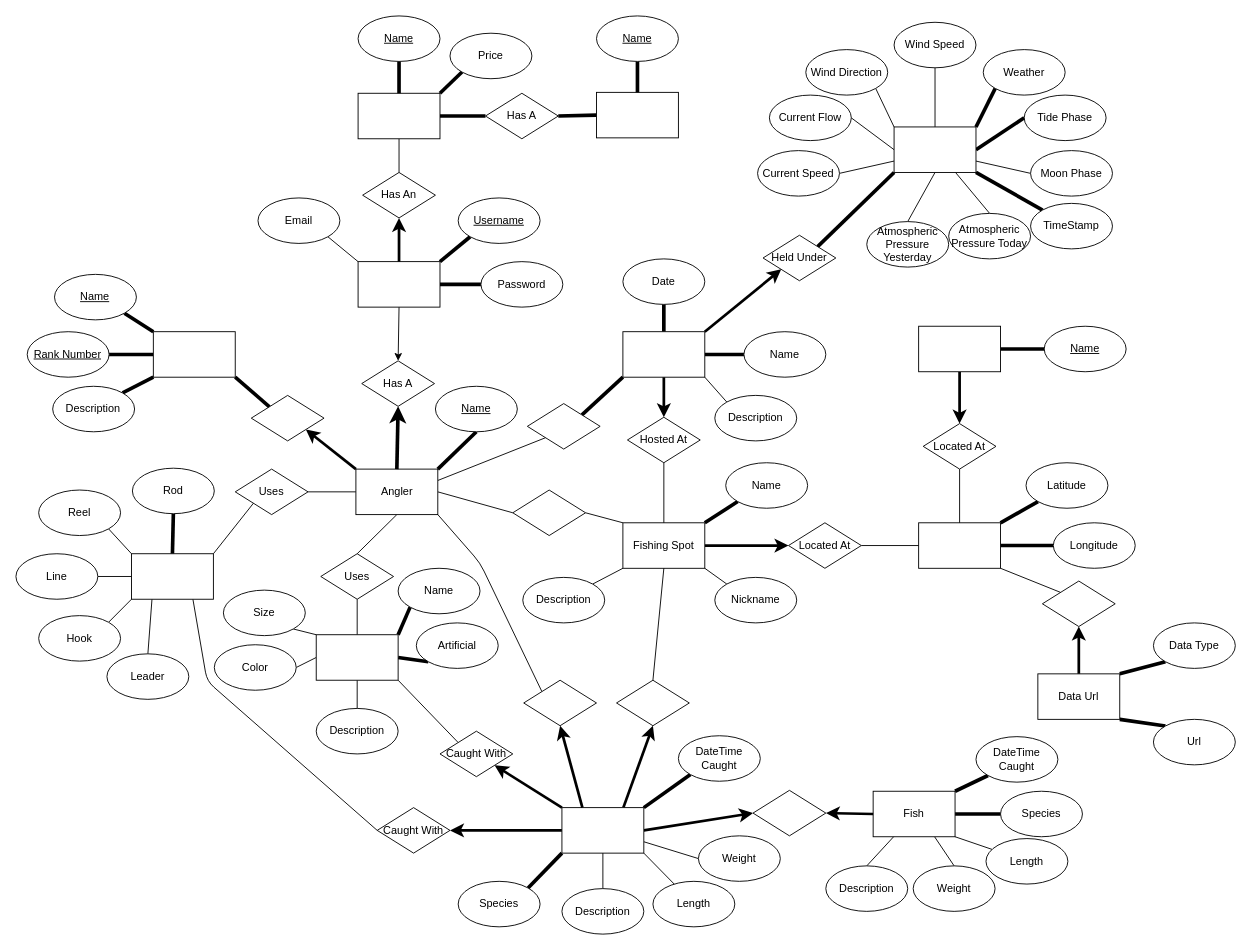
Some shapes in this 1251 by 950 pixel diagram are drawn without their labels. The shapes that lost their labels are listed below. From the top down, each one's centre as x and y in pixels, then its label:
At point (398, 115): "Account Type".
At point (637, 114): "Priviledge".
At point (934, 149): "Fishing Conditions".
At point (398, 284): "User Account".
At point (193, 354): "Angler Rank".
At point (663, 354): "Fishing Outing".
At point (959, 348): "Current Station".
At point (287, 417): "Earns".
At point (563, 426): "Attends".
At point (549, 512): "Knows".
At point (959, 545): "Global Position".
At point (172, 576): "Fishing Gear".
At point (1078, 603): "Has".
At point (356, 657): "Bait".
At point (560, 702): "Caught By".
At point (652, 702): "Caught At".
At point (602, 830): "Catch".
At point (789, 812): "Records".
